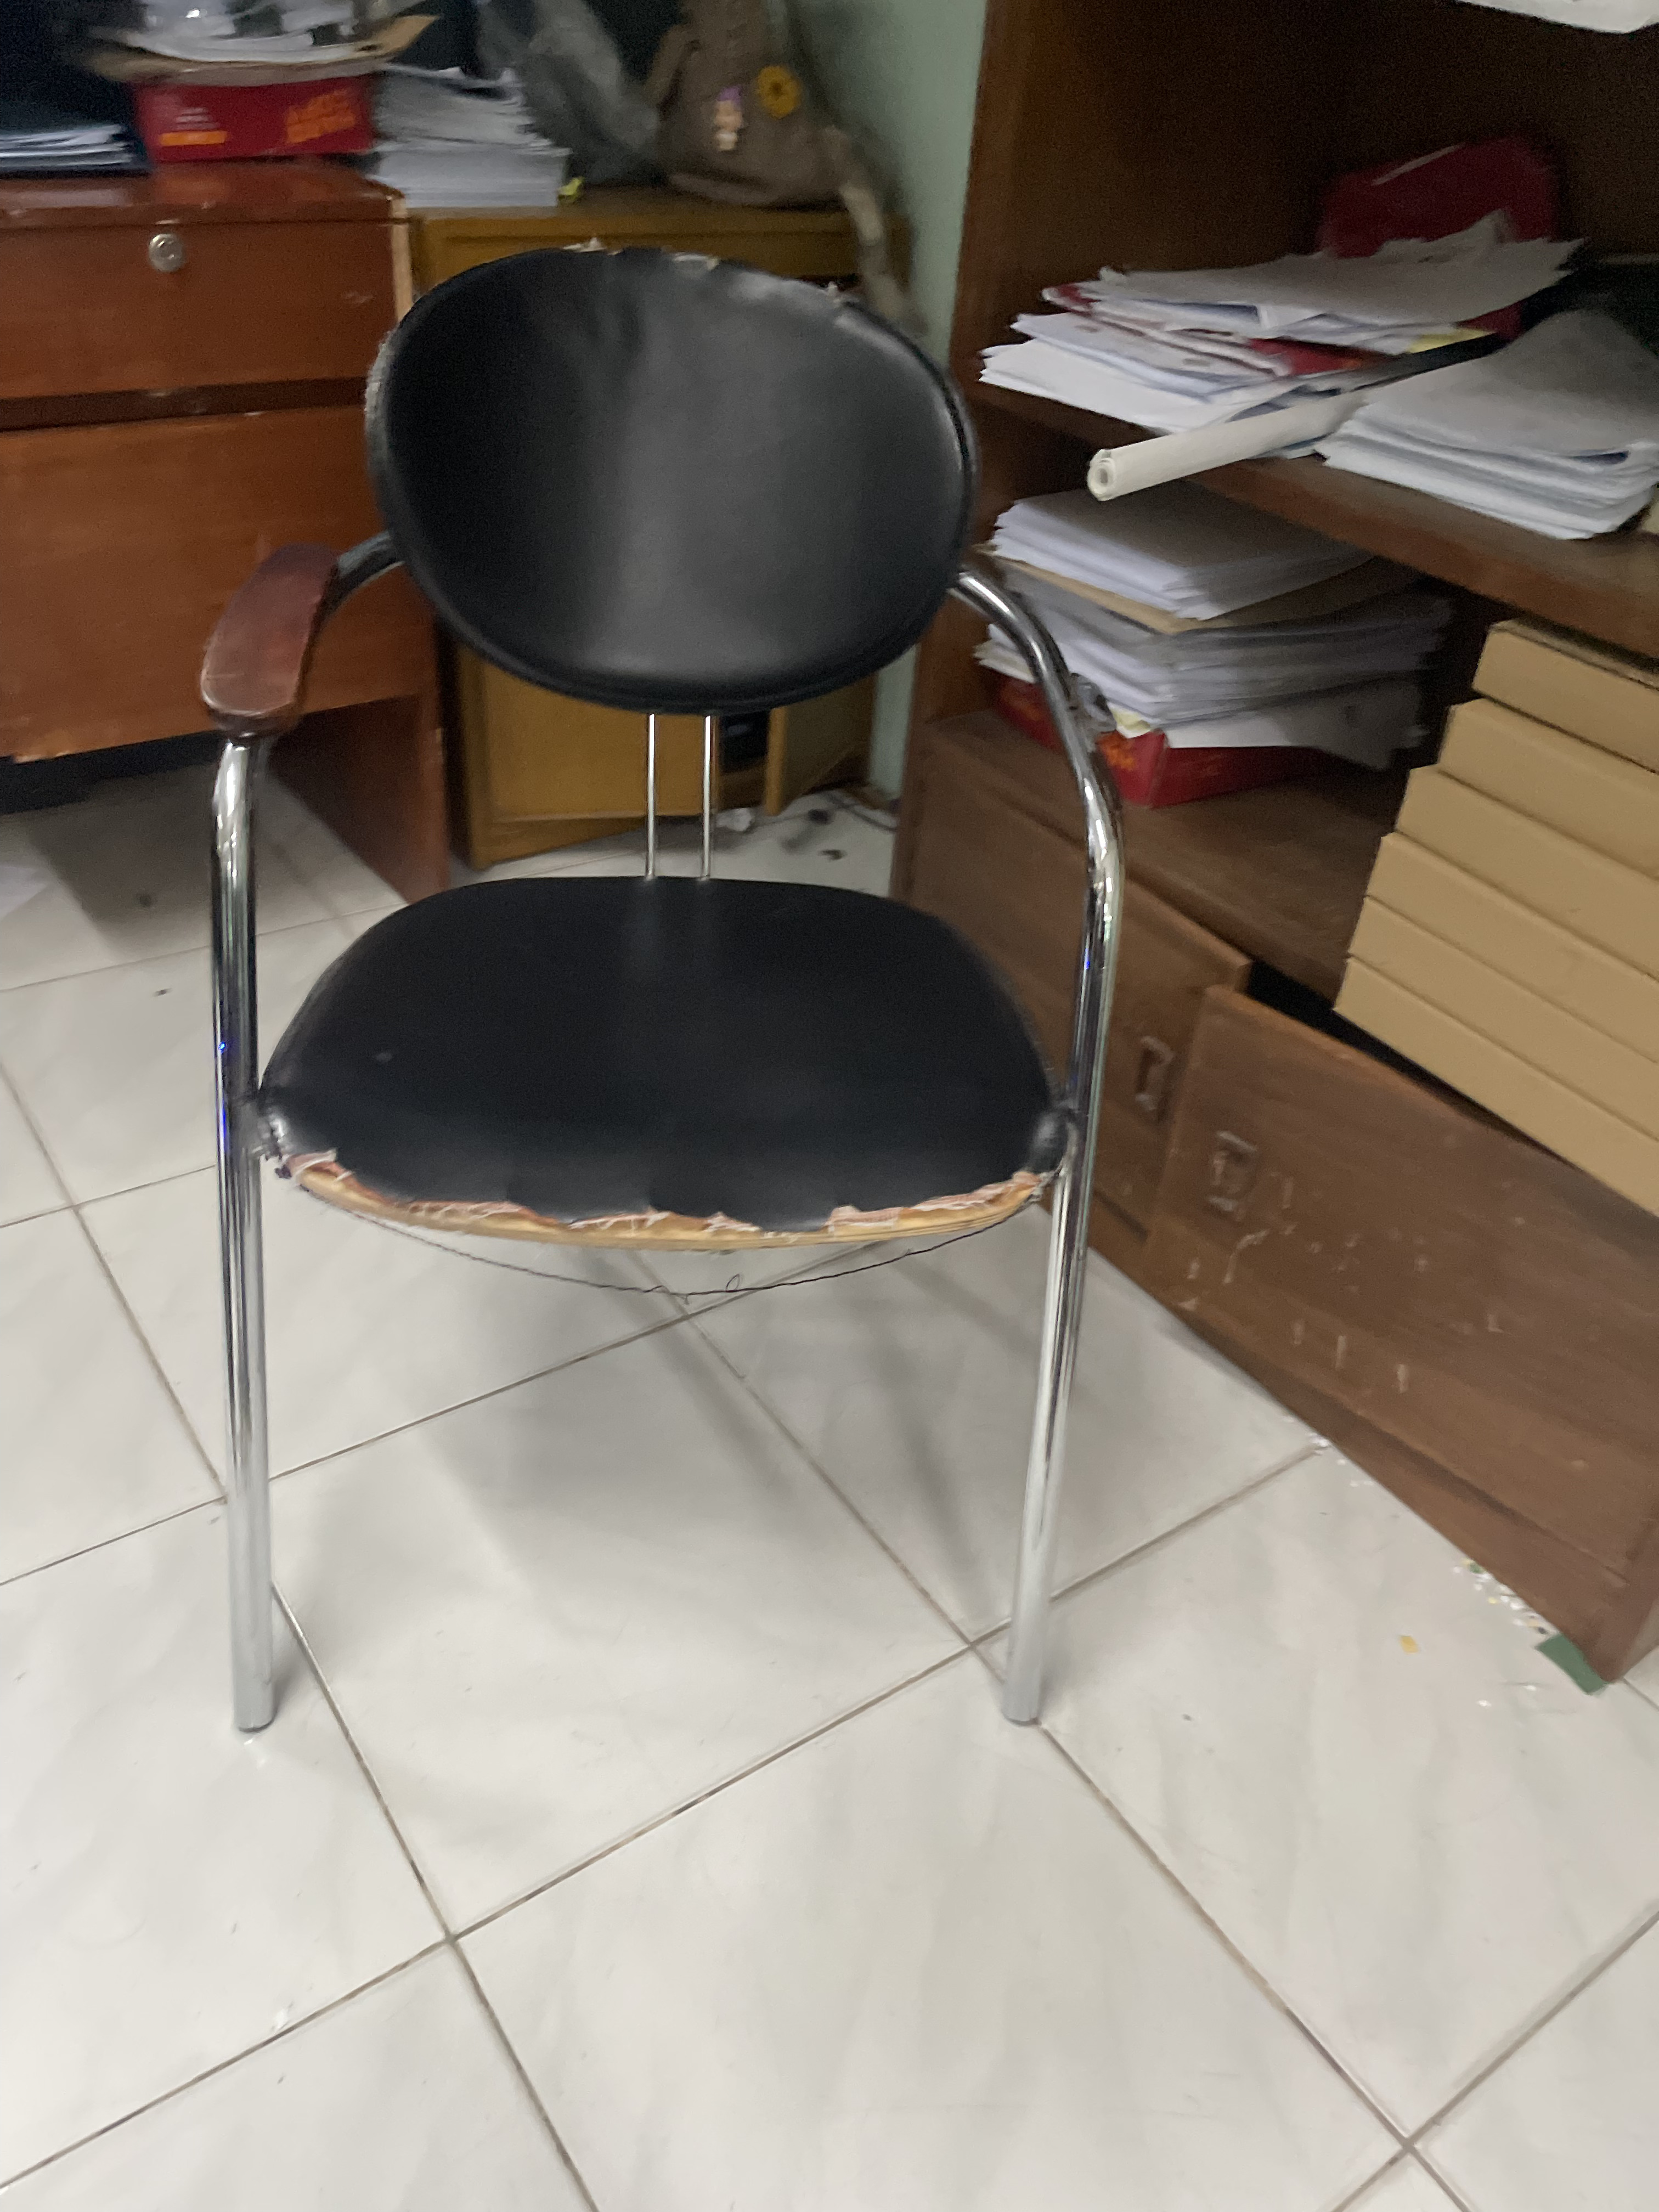chair1: (195, 233, 1131, 1745)
